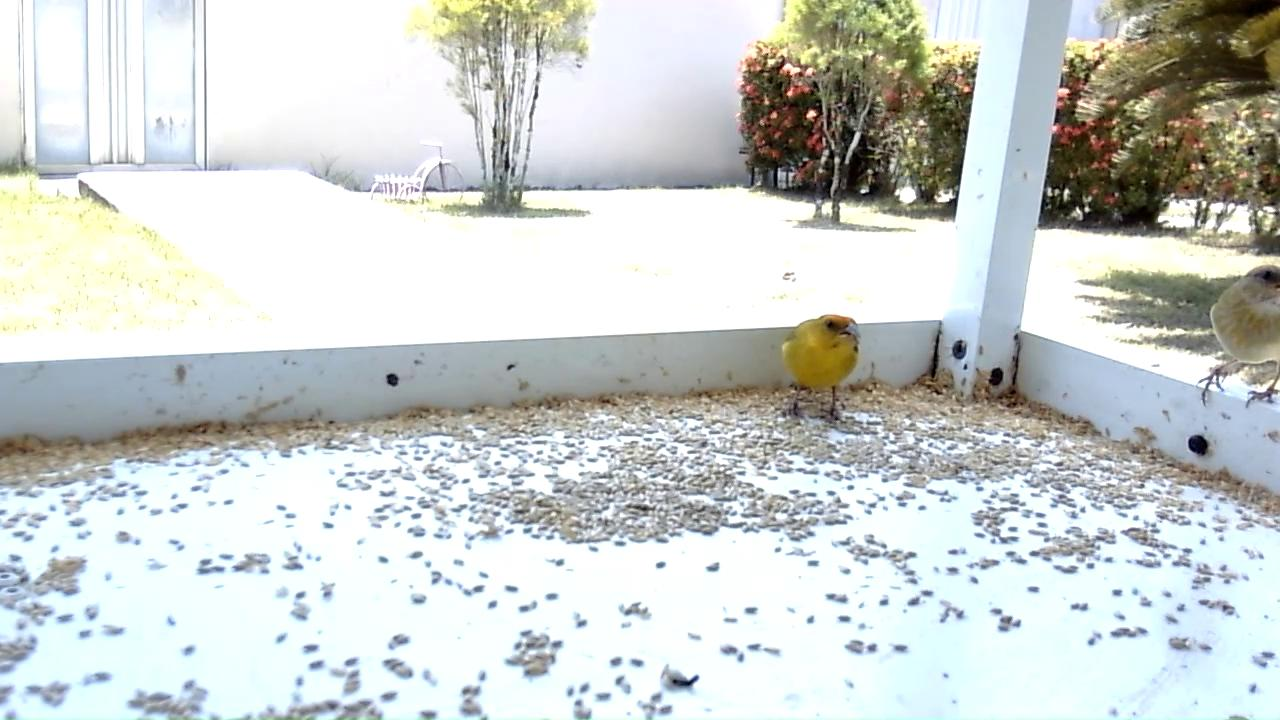canario_do_amazonas: (1194, 263, 1280, 411), (780, 313, 863, 422)
